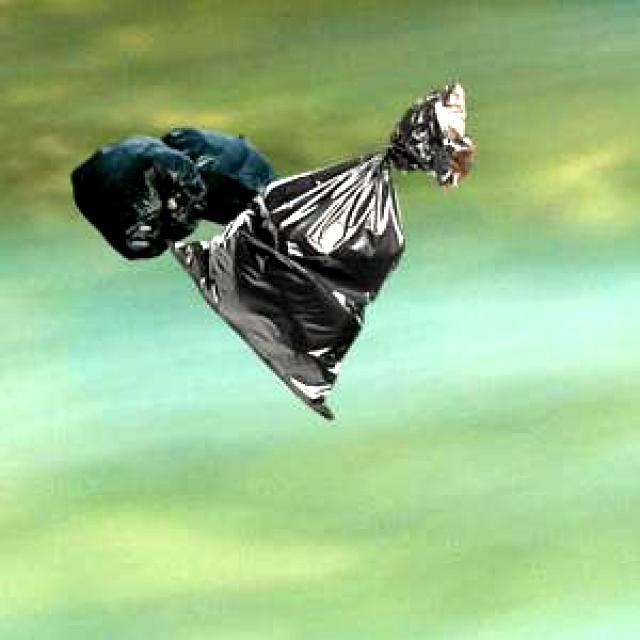Garbage_Bag: (164, 80, 470, 417), (70, 125, 276, 255)
